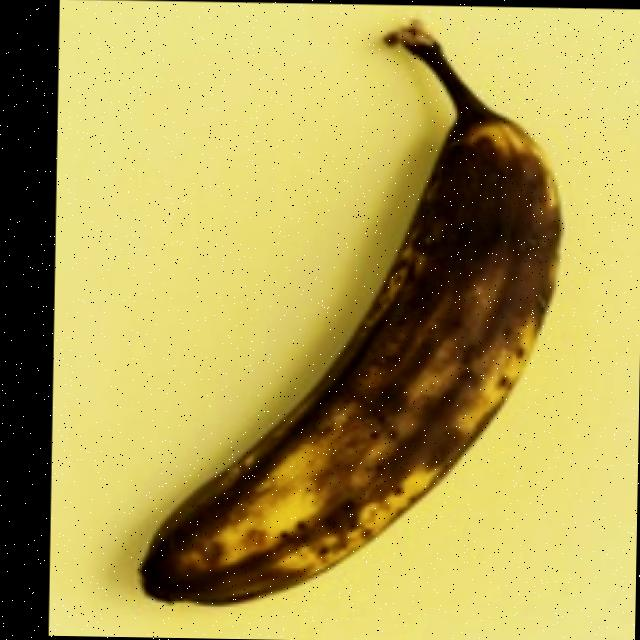Rotten: (117, 6, 582, 620)
